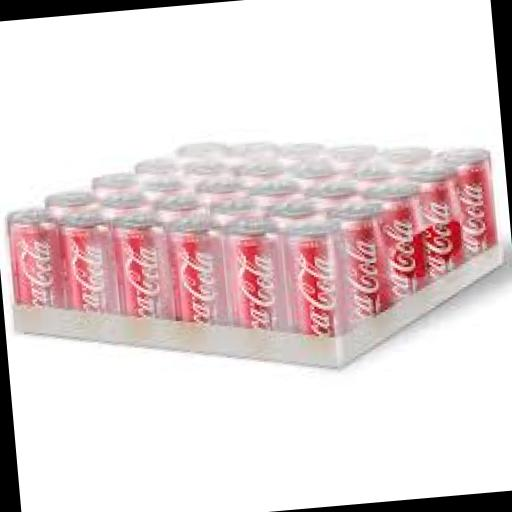Coca: (0, 196, 69, 341), (434, 136, 502, 278), (220, 223, 287, 367), (164, 217, 229, 364), (283, 224, 348, 362), (114, 212, 174, 355), (59, 212, 121, 342), (336, 214, 391, 332), (380, 192, 430, 310), (419, 176, 466, 290)
